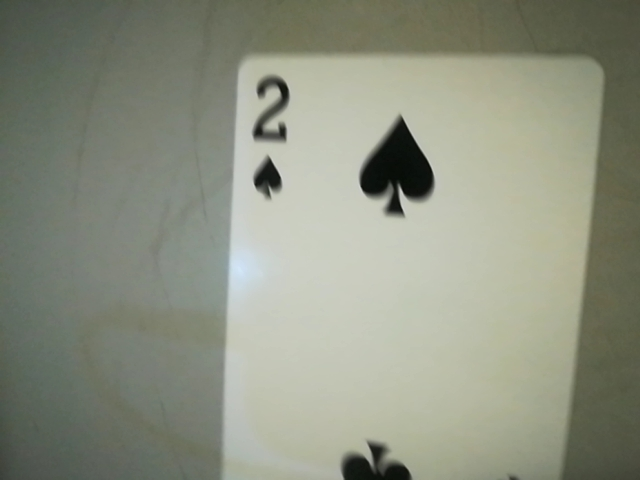ht 2: (235, 64, 303, 213)
